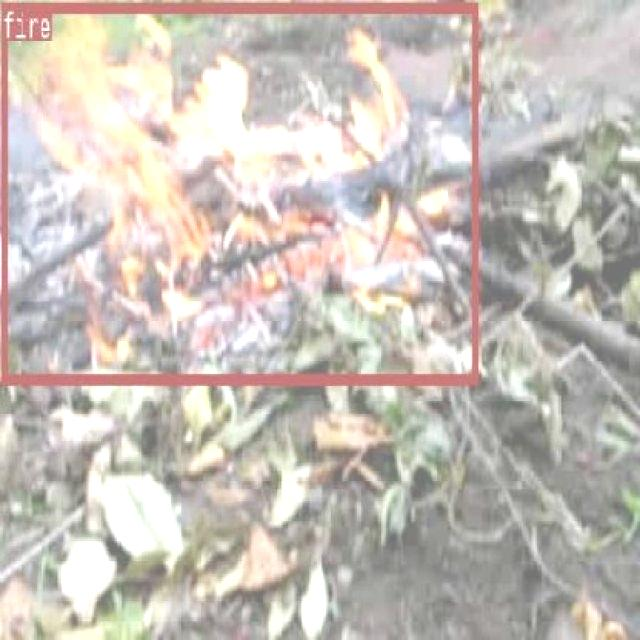fire: (1, 1, 477, 382)
